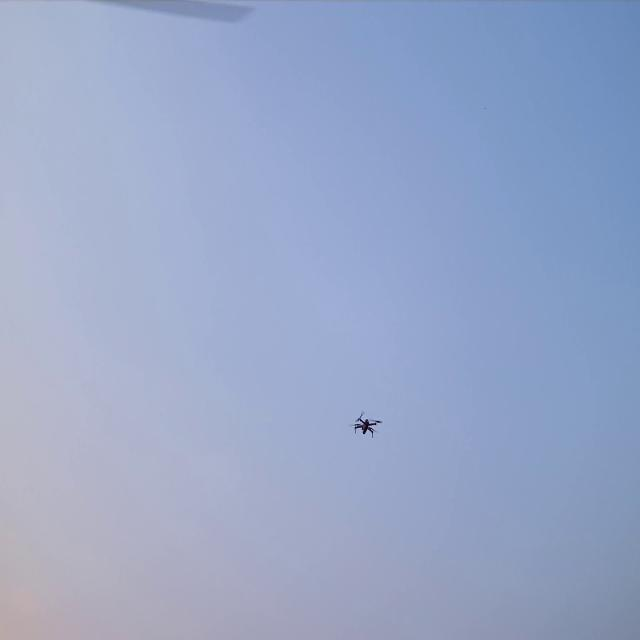UAV: (347, 407, 384, 440)
